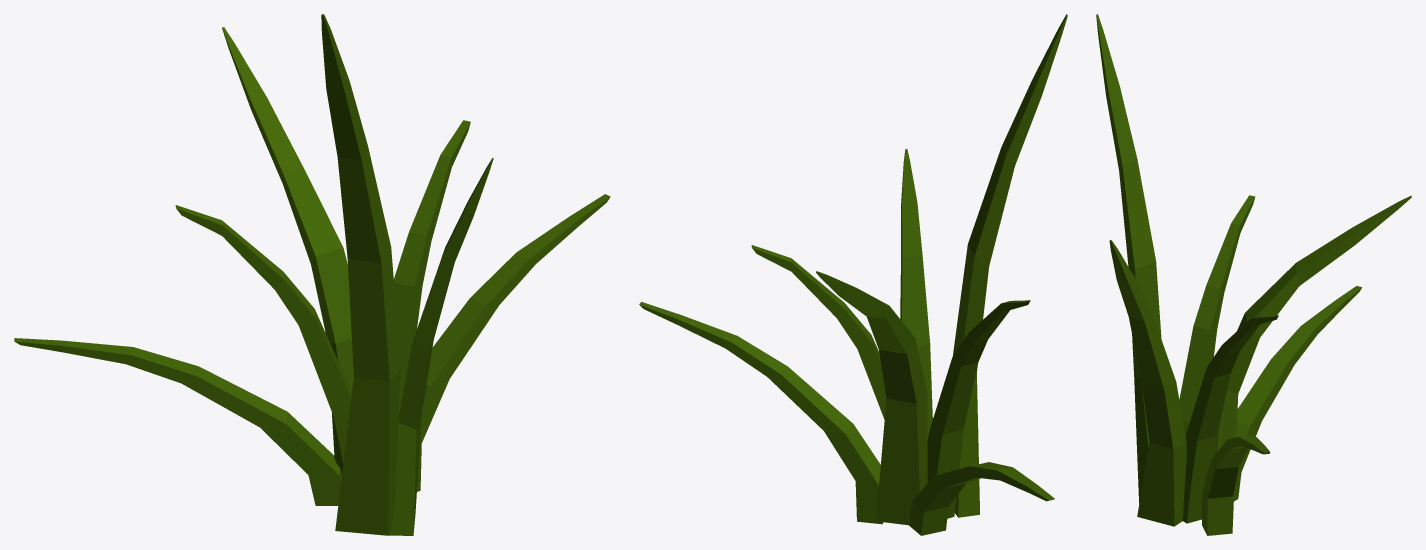
Rendered from Grass_01.fbx.
The picture shows the model from 3 angles, left to right: view 1: azimuth 30°, elevation 25°; view 2: azimuth 150°, elevation 25°; view 3: azimuth 270°, elevation 25°; orthographic projection. The views are drawn at different scales.
Visible parts, largest first — view 1: Grass_01; view 2: Grass_01; view 3: Grass_01.
Part boxes in pixels (bbox=[...]): Grass_01: bbox=[14, 14, 610, 535]; Grass_01: bbox=[639, 14, 1067, 535]; Grass_01: bbox=[1096, 14, 1411, 535].
Bounding box in the file's own units: 0.7825 × 0.788 × 0.4928.
Materials: 1 (1 with a texture image).
